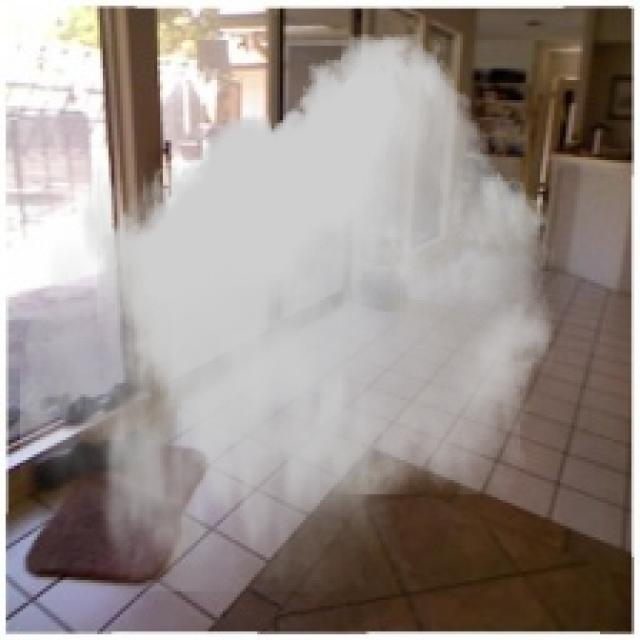smoke: (20, 34, 554, 592)
